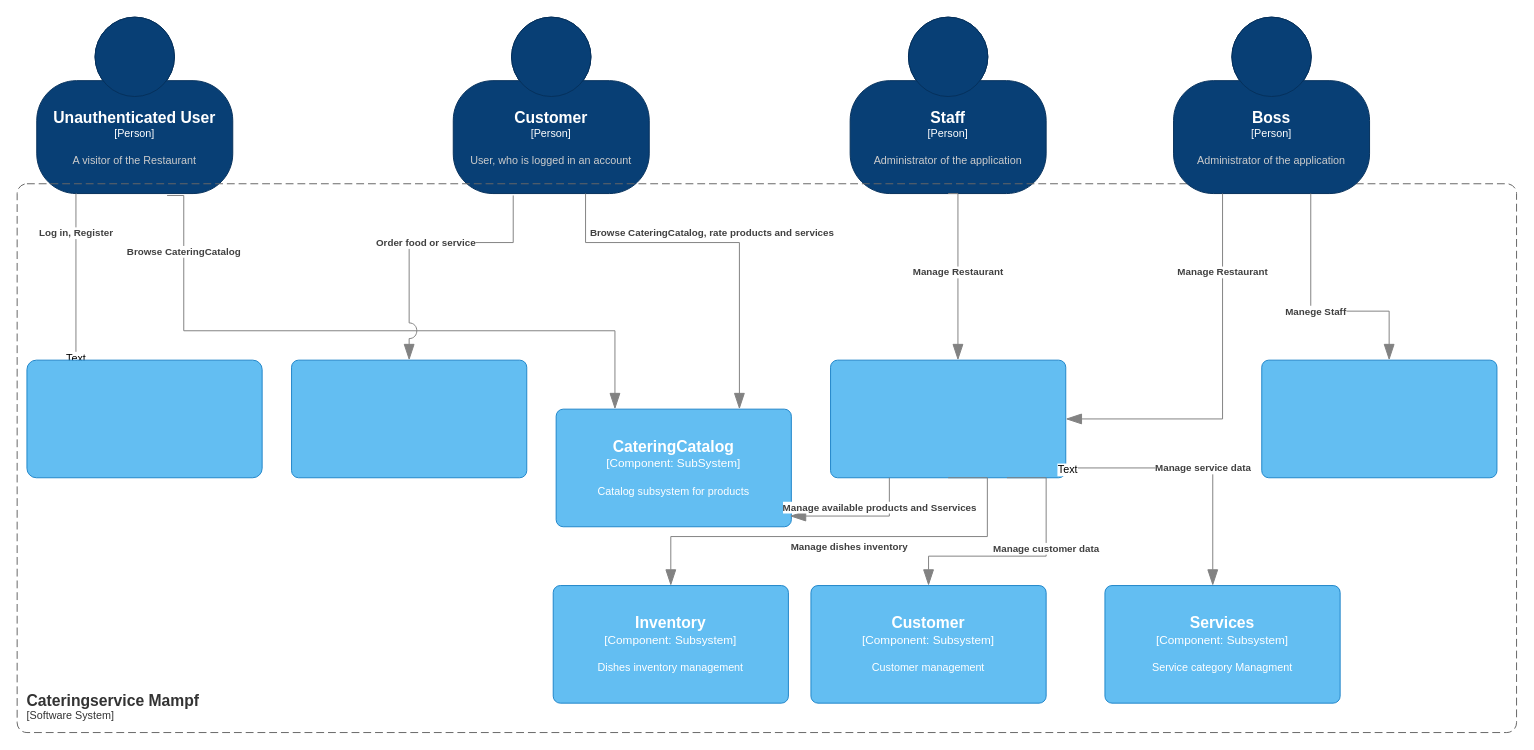
The diagram is 1534 pixels wide and 750 high, and some of its shapes have lost their labels. The shapes that lost their labels are listed below. From the top down, each one's centre as x and y in pixels, then its label:
At (x=144, y=418): "Restaurant [Component: Subsystem] Log in and sign up subsystem".
At (x=409, y=418): "Card [Component: Subsystem] Card and Order subsystem".
At (x=948, y=418): "Management [Component: Subsystem] Internal Managment".
At (x=1379, y=418): "StaffManagement [Component: Subsystem] Internal Personal Managment".
